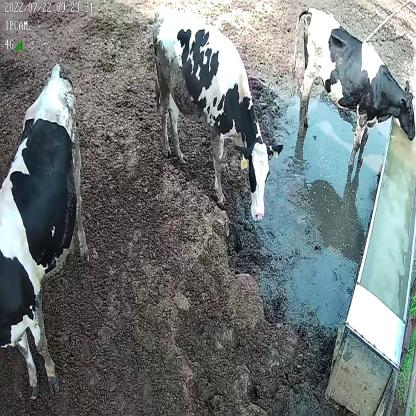cow: (1, 61, 90, 402), (151, 6, 284, 228), (290, 5, 416, 180)
